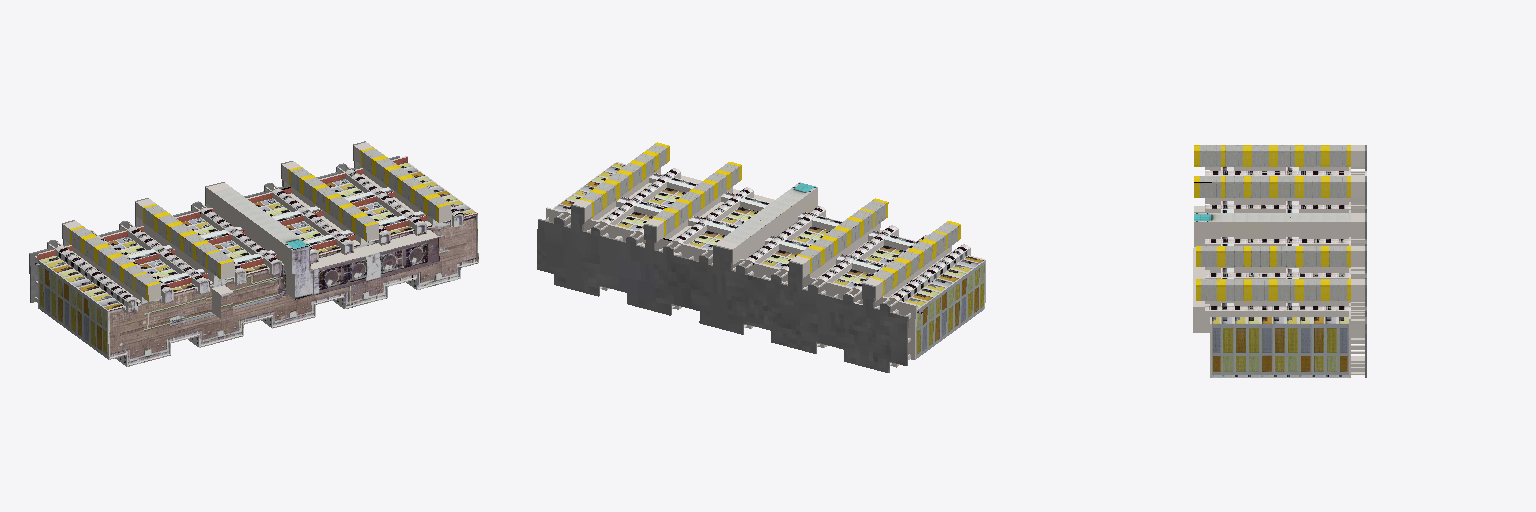
The picture shows the model from 3 angles: view 1: azimuth 30°, elevation 25°; view 2: azimuth 150°, elevation 25°; view 3: azimuth 270°, elevation 25°; orthographic projection.
Parts seen in each view (by area): view 1: polygon.794; view 2: polygon.794; view 3: polygon.794.
Boxes of the visible parts, x1,y1,x2,y2 form: polygon.794: [29, 141, 478, 366]; polygon.794: [537, 142, 985, 372]; polygon.794: [1193, 145, 1366, 377].
Bounding box in the file's own units: 93.36 × 21.61 × 37.64.
Materials: 1 (1 with a texture image).